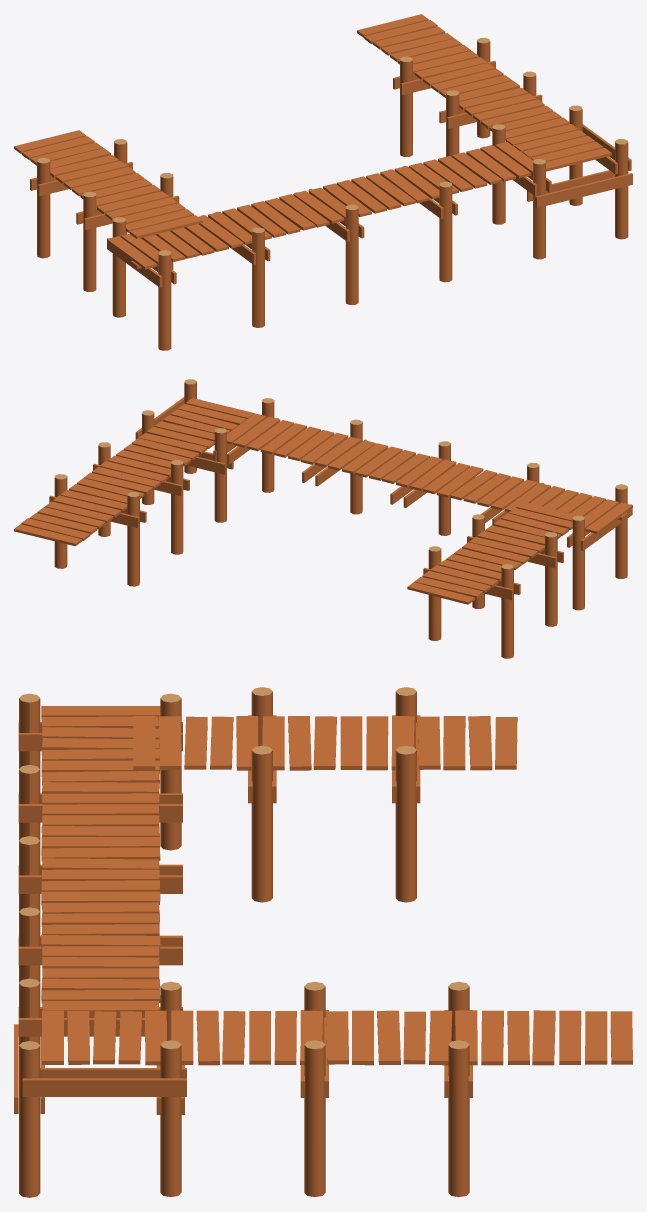
The model's file is bridge.glb.
3 renders of one model, top to bottom at view 1: azimuth 30°, elevation 25°; view 2: azimuth 150°, elevation 25°; view 3: azimuth 270°, elevation 25°, orthographic. The views are drawn at different scales.
Parts seen in each view (by area): view 1: LONG, Cube.004, Cube.008, Cylinder, Cylinder.001, Cylinder.002, Cube.001, Cube.034, Cylinder.006, Cylinder.007, Cube.009, Cube.005 (+1 smaller); view 2: LONG, Cube.004, Cube.008, Cylinder.001, Cylinder.002, Cylinder, Cube.001, Cylinder.007, Cube.005, Cube.009, Cube.035; view 3: LONG, Cube.004, Cube.008, Cylinder.001, Cylinder.002, Cylinder, Cube.001, Cube.045, Cylinder.006, Cylinder.007, Cube.005, Cube.009.
Part boxes in pixels (x1,y1,x2,y2): LONG: (107,142,532,269); Cube.004: (357,14,611,171); Cube.008: (14,130,202,238); Cylinder: (158,159,545,350); Cylinder.001: (400,37,582,224); Cylinder.002: (37,139,173,291); Cube.001: (107,146,551,287); Cube.034: (527,170,632,207); Cylinder.006: (615,139,628,239); Cylinder.007: (112,217,125,317); Cube.009: (30,162,179,229); Cube.005: (393,60,542,128); LONG: (227,413,632,533); Cube.004: (14,398,254,546); Cube.008: (407,502,584,604); Cylinder.001: (54,410,226,586); Cylinder.002: (428,514,557,658); Cylinder: (262,398,627,578); Cube.001: (213,418,632,550); Cylinder.007: (572,515,584,610); Cube.005: (49,463,189,527); Cube.009: (423,536,563,600); Cube.035: (186,451,233,474); LONG: (41,706,160,1014); Cube.004: (42,1010,632,1065); Cube.008: (133,716,517,770); Cylinder.001: (160,981,469,1197); Cylinder.002: (251,687,416,902); Cylinder: (19,693,40,1044); Cube.001: (18,722,182,1036); Cube.045: (22,1068,186,1096); Cylinder.006: (19,1041,40,1197); Cylinder.007: (160,693,181,850); Cube.005: (300,1010,472,1097); Cube.009: (248,715,420,803).
Size of the model in its own units: 27.2 by 5.34 by 19.42.
